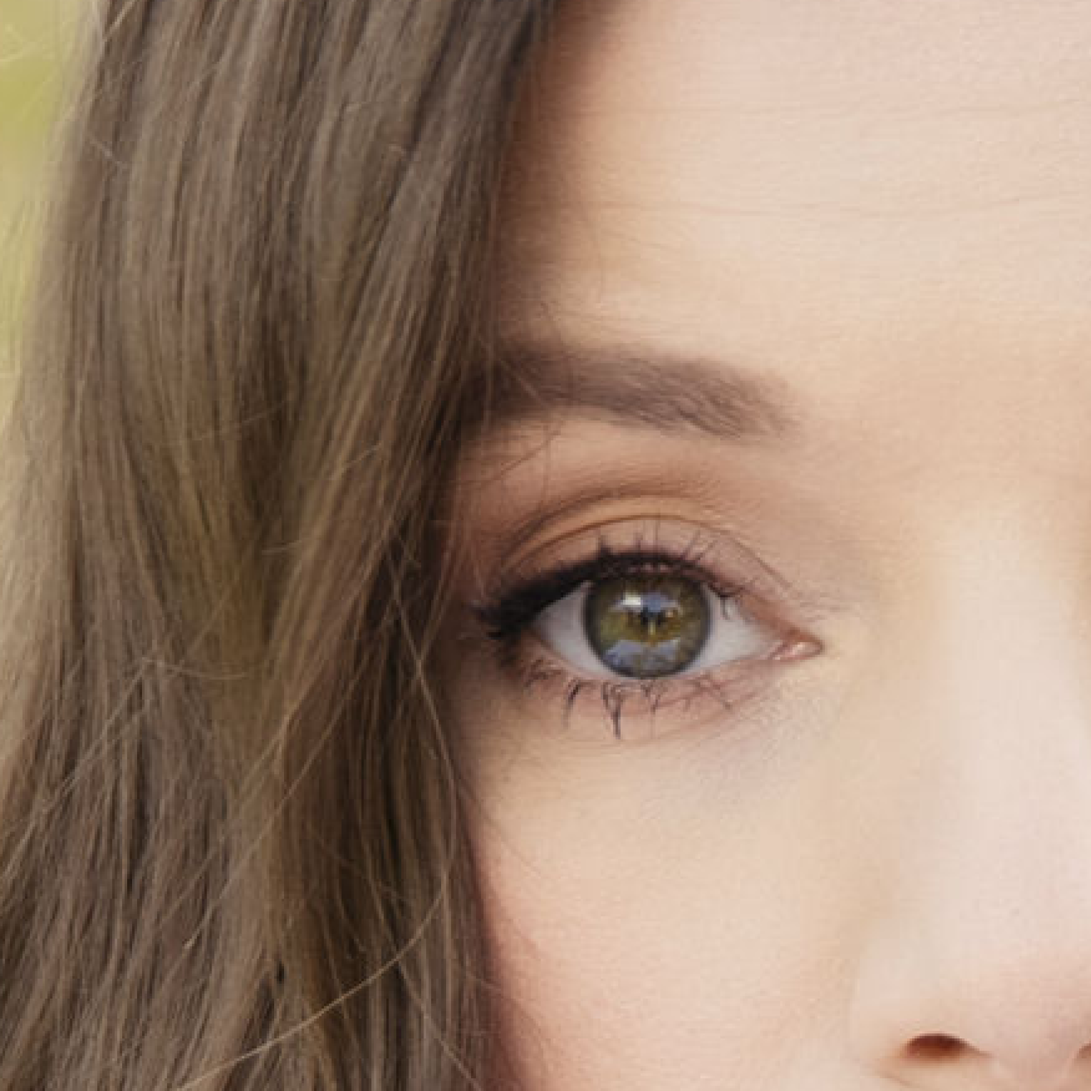iris: (586, 576, 708, 677)
pupil: (642, 604, 665, 624)
sclera: (530, 581, 618, 677), (688, 586, 771, 669)
